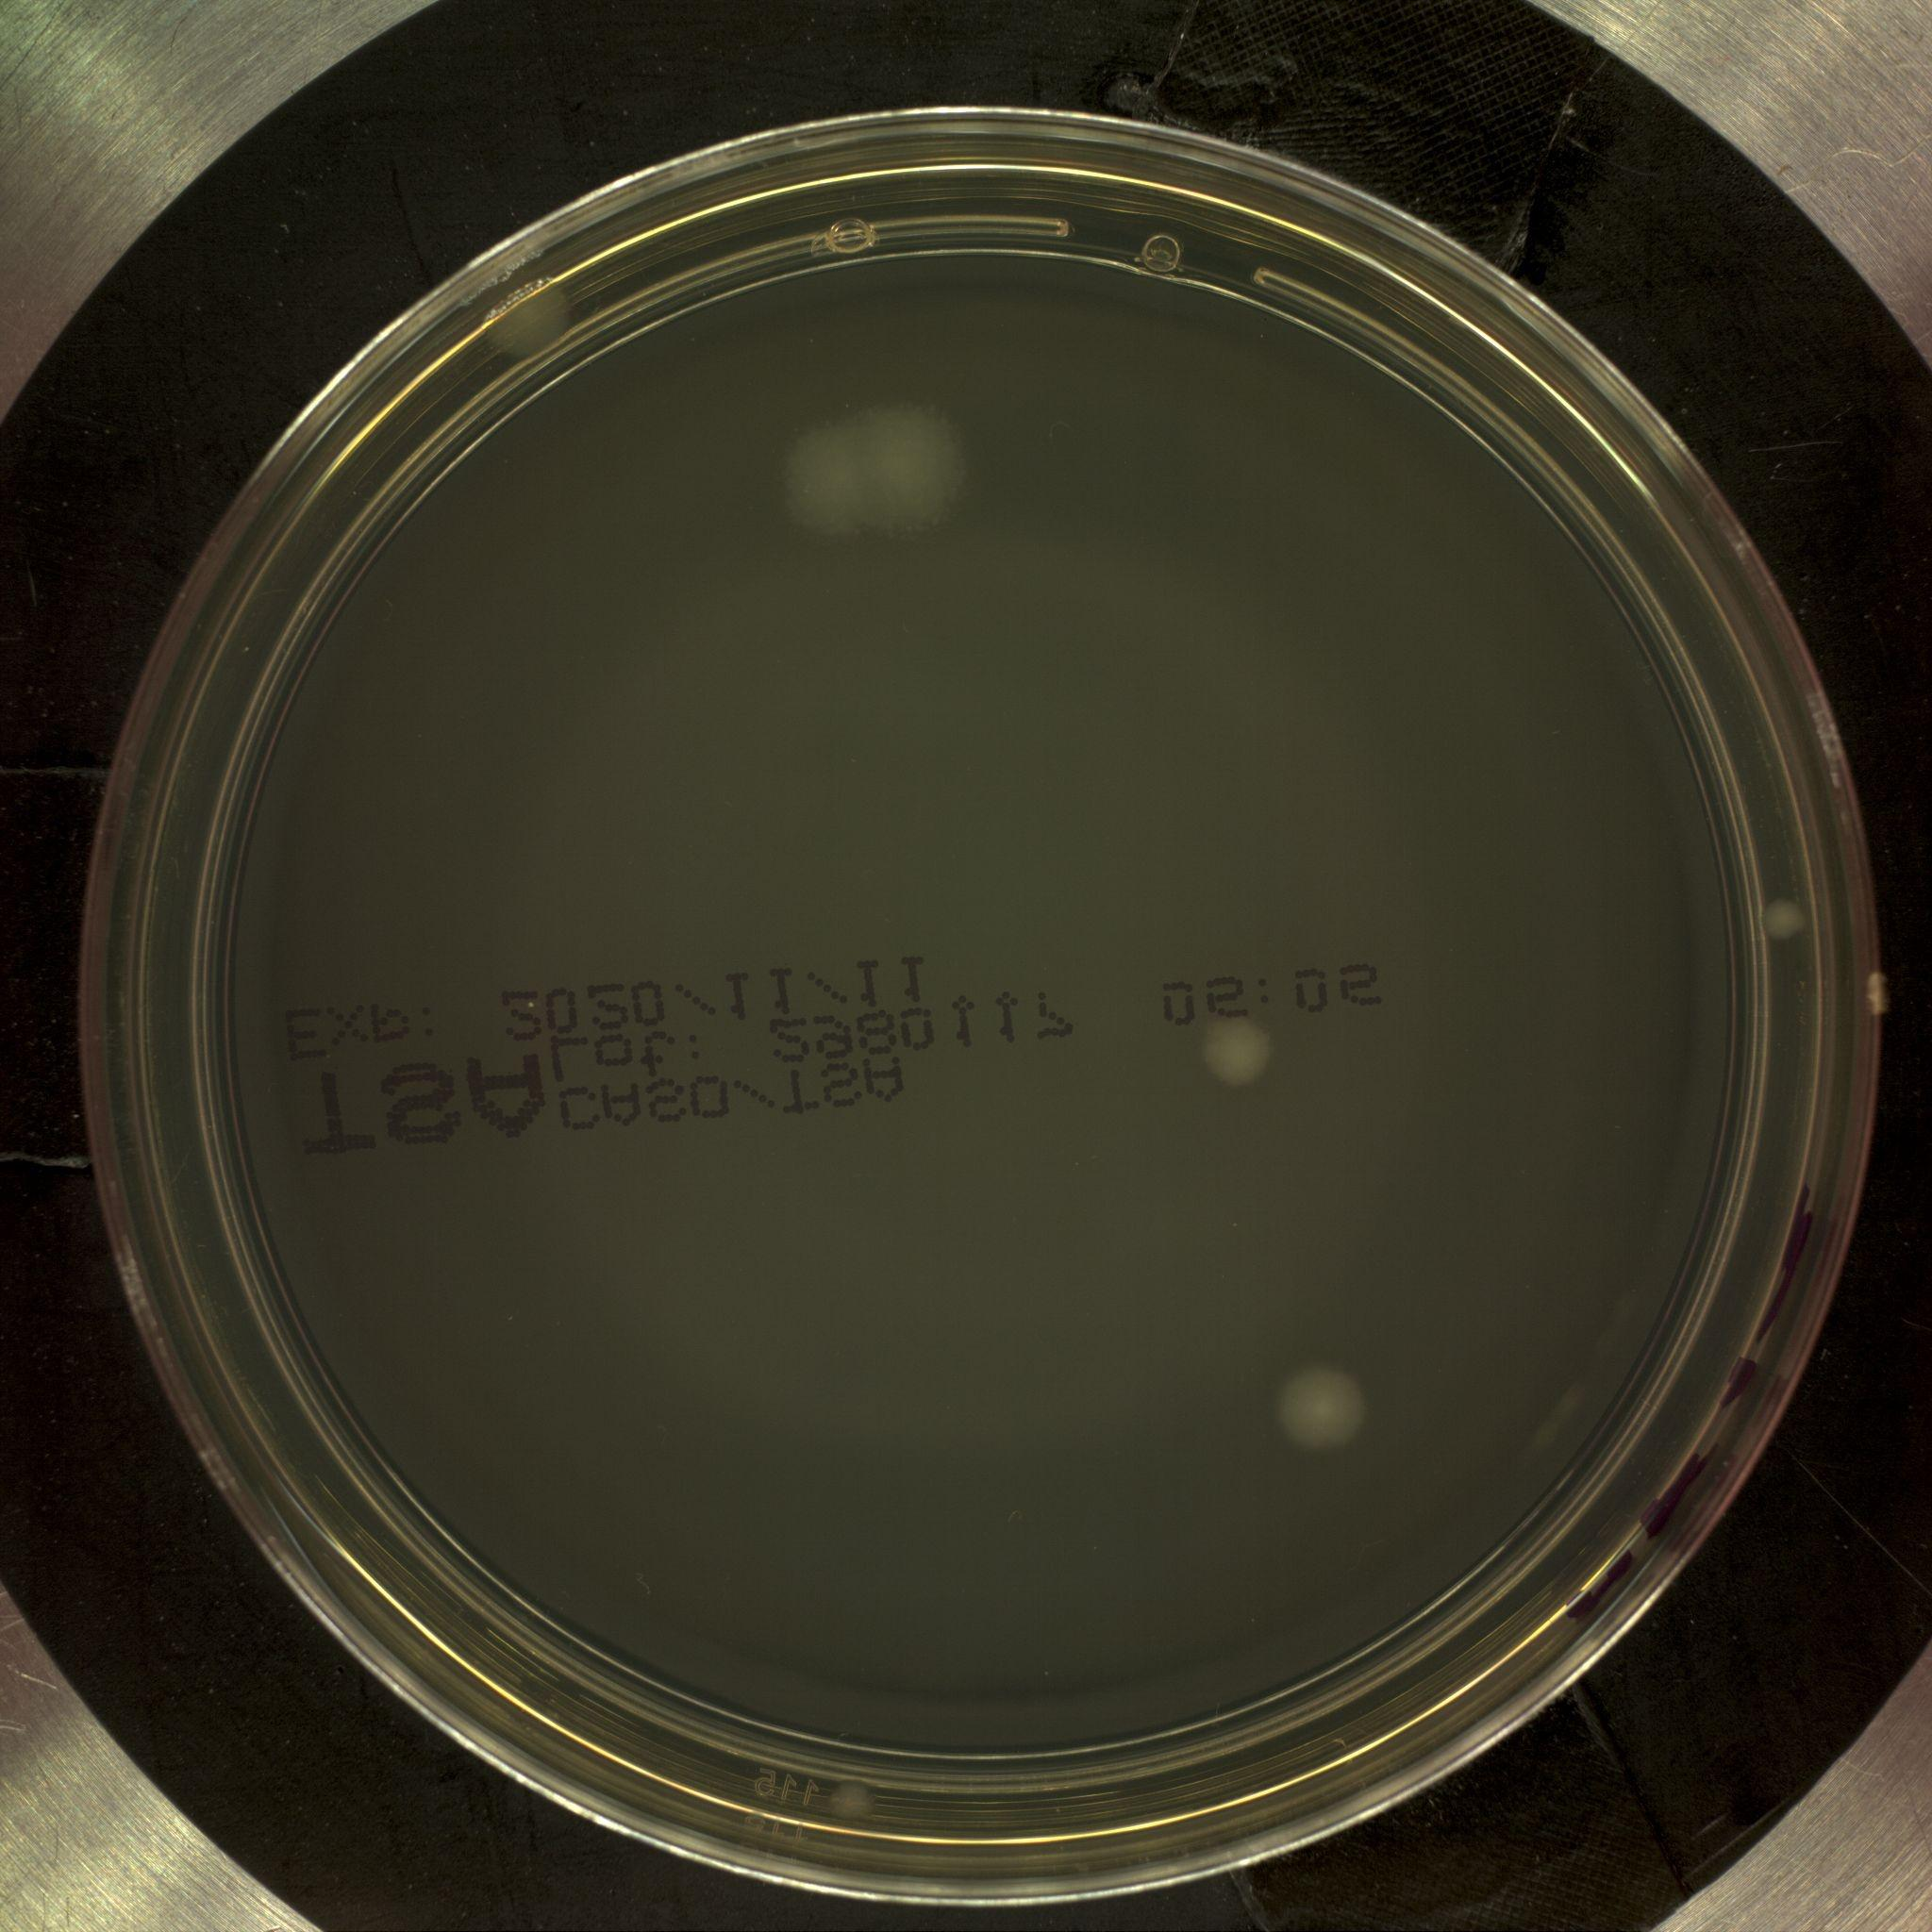e. coli: (851, 387, 973, 547), (780, 410, 897, 533), (1276, 1353, 1373, 1467), (474, 269, 577, 368), (1191, 1010, 1284, 1095), (1732, 892, 1826, 957)
